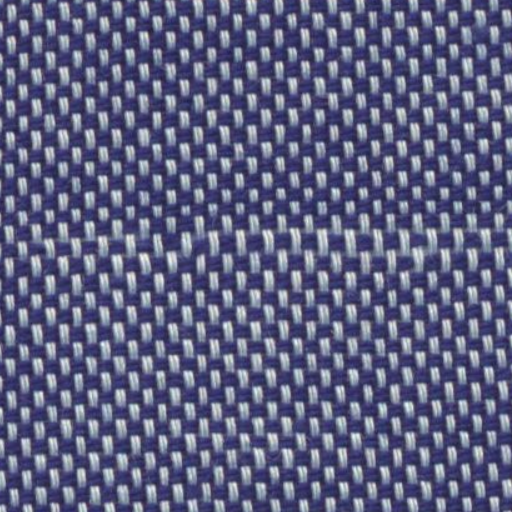TuoSha: (16, 211, 493, 288)
